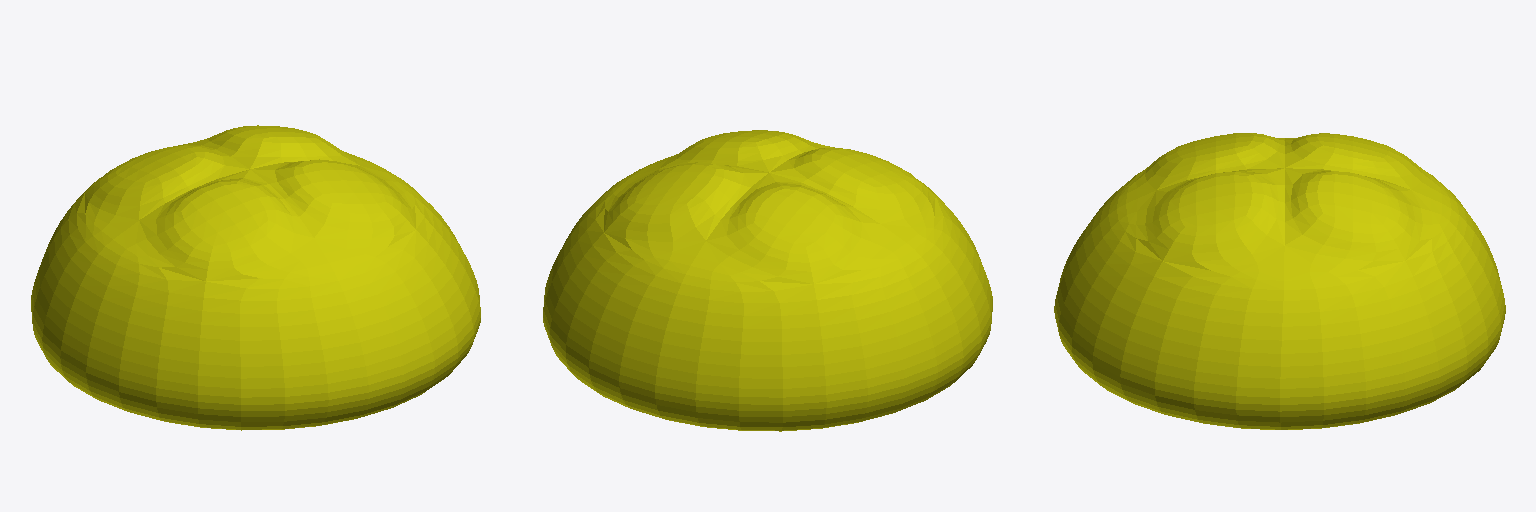
The model's file is Bread.obj.
3 views of the same model, side by side, from view 1: azimuth 30°, elevation 25°; view 2: azimuth 150°, elevation 25°; view 3: azimuth 270°, elevation 25° (orthographic).
Parts seen in each view (by area): view 1: Meron; view 2: Meron; view 3: Meron.
Part boxes in pixels (x1,y1,x2,y2): Meron: (31,125,480,430); Meron: (543,130,992,431); Meron: (1054,133,1505,429).
Bounding box in the file's own units: 1.78 × 0.829 × 1.78.